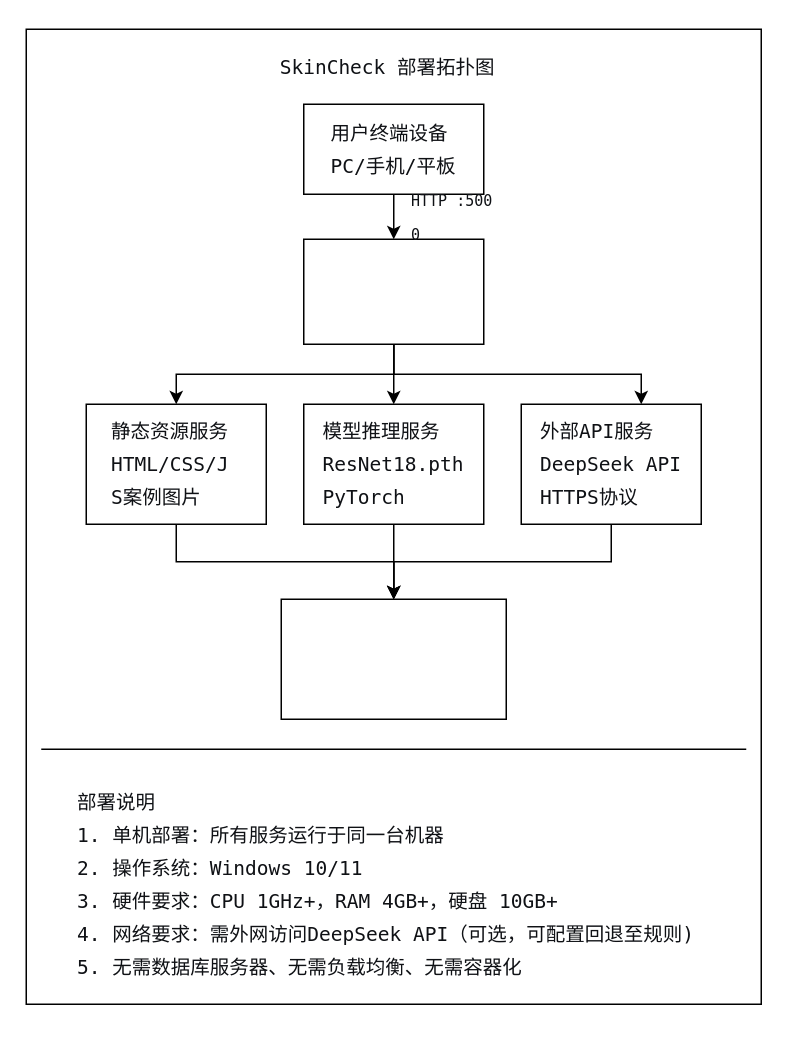
This 788x1044 diagram has some shape labels left out. Each missing label, with the centre of its shape:
Web服务器 Flask App Port: 5000: pixel 393 291
本地存储 浏览器localStorage 历史记录: pixel 393 658
